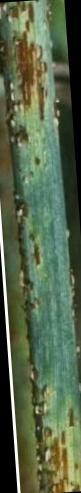Wheat: (4, 4, 48, 119), (42, 418, 81, 493)
